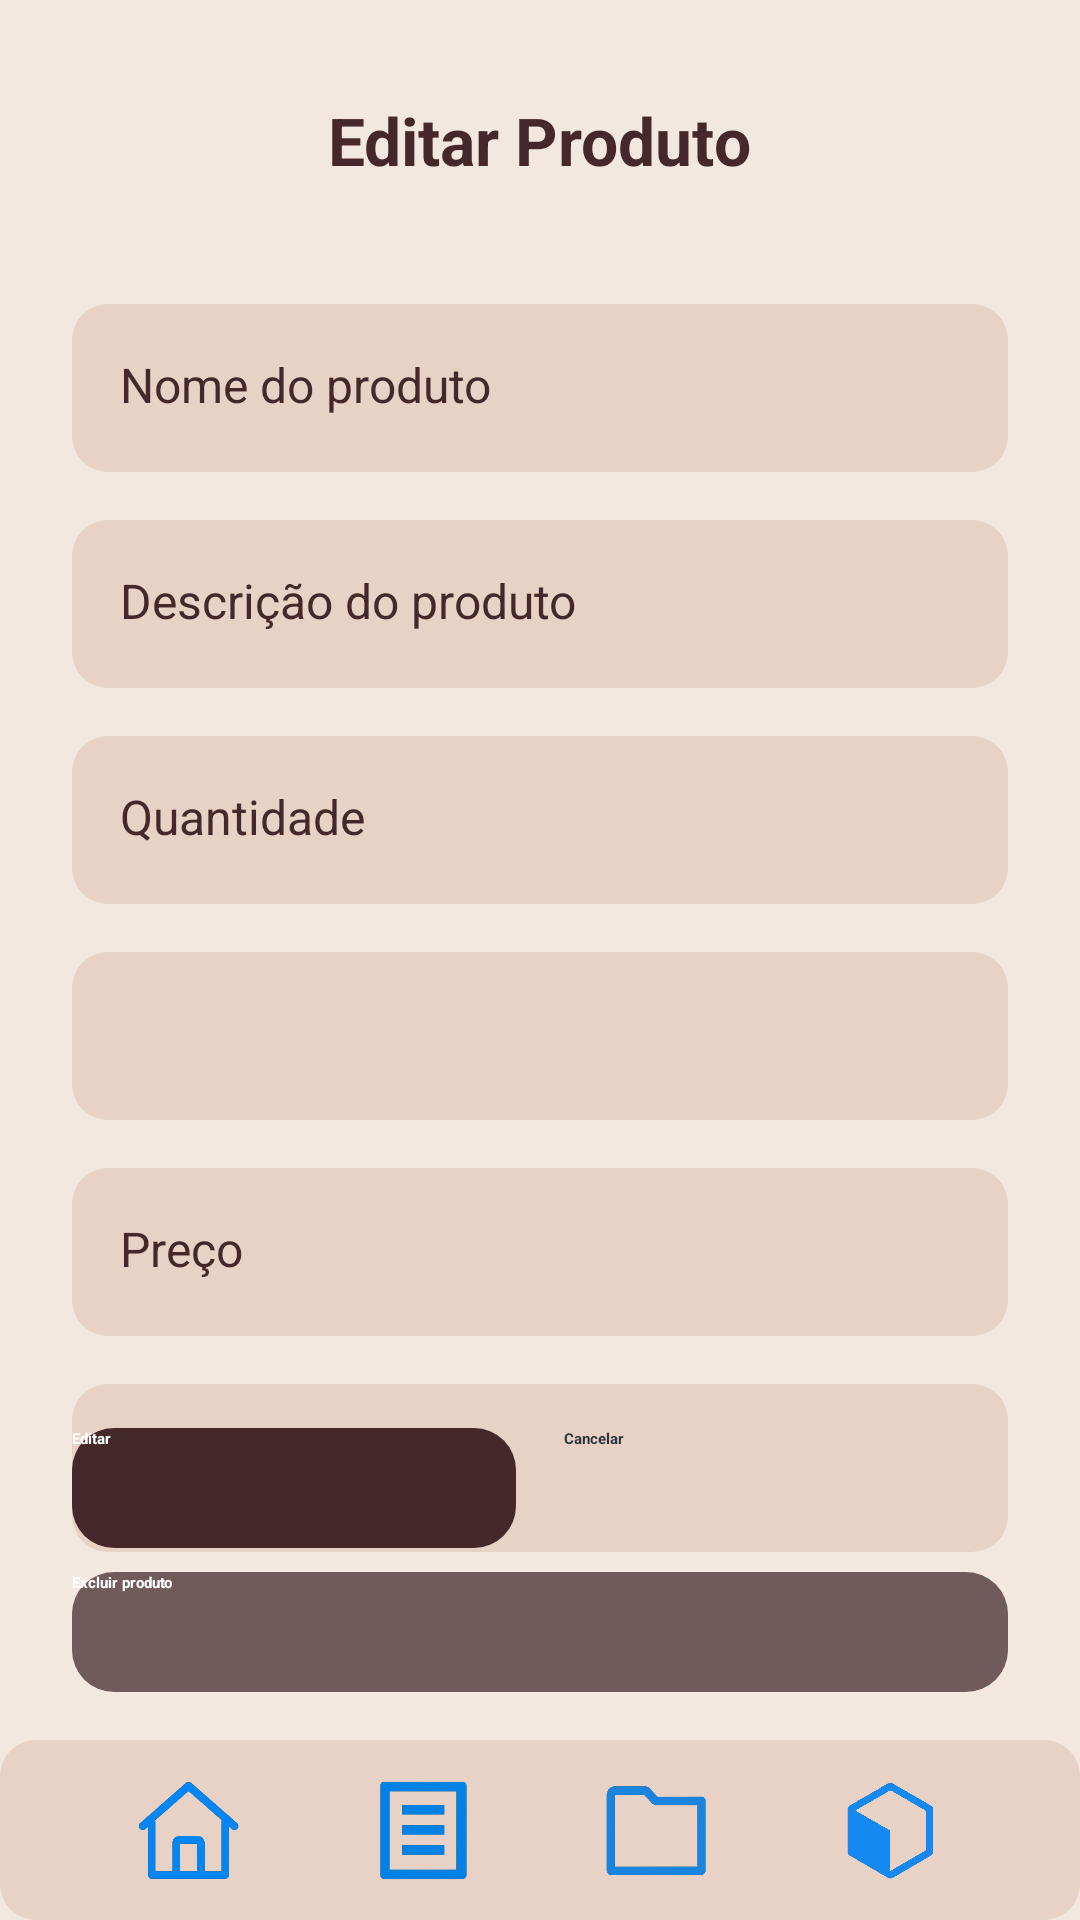

Where to tap for icons on this 1080px x 1920px app screen, as (x=x, y=y):
caixa: (x=890, y=1831)
home: (x=189, y=1830)
lista: (x=423, y=1830)
pasta: (x=656, y=1830)
